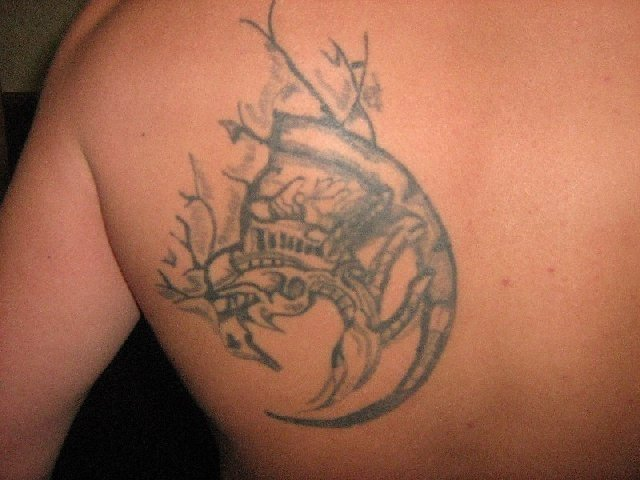tatu6_drakon: (139, 15, 494, 436)
